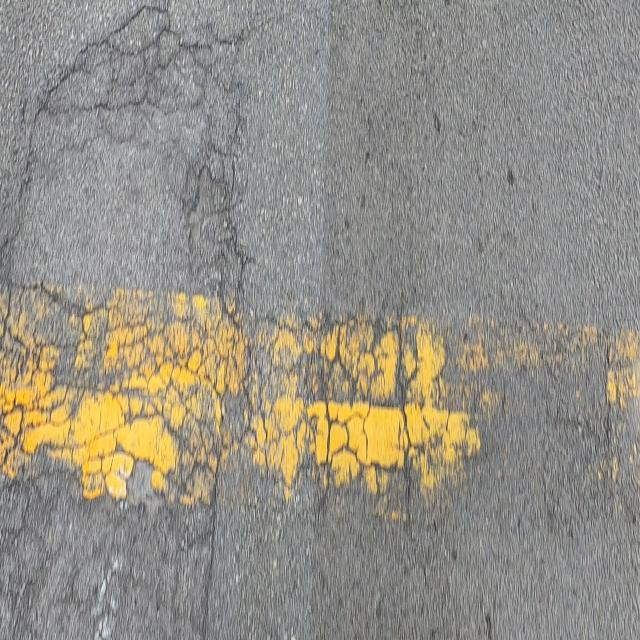Retak-Buaya: (0, 11, 481, 640), (35, 2, 251, 121)
